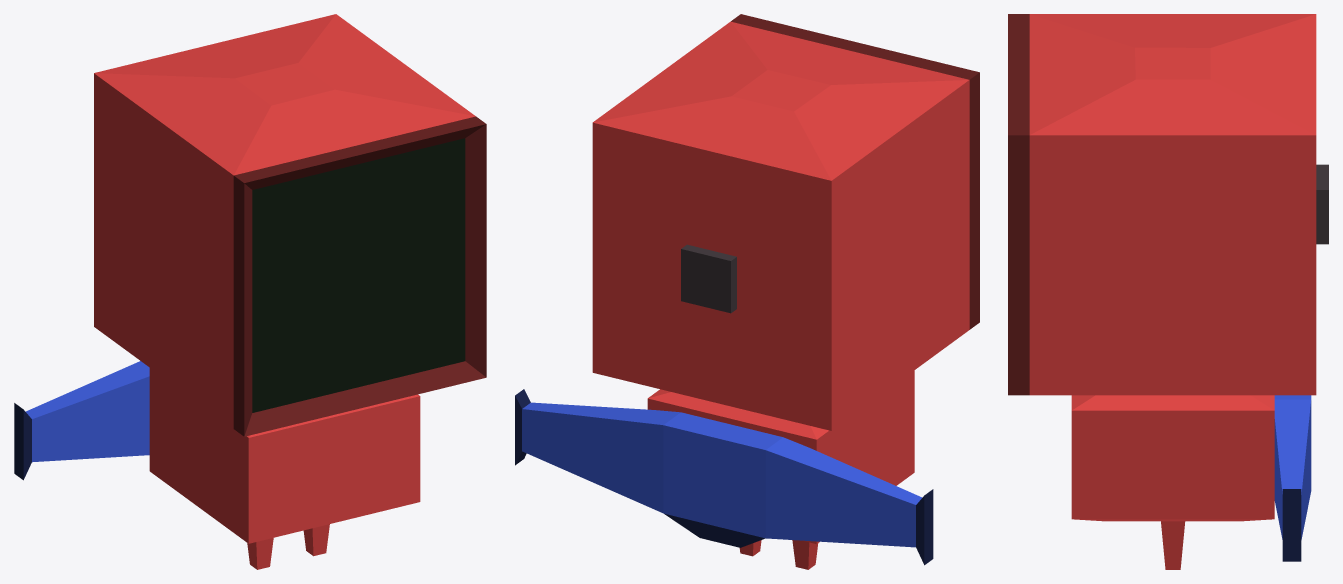
The model's file is roboboy.fbx.
The picture shows the model from 3 angles, left to right: view 1: azimuth 30°, elevation 25°; view 2: azimuth 150°, elevation 25°; view 3: azimuth 270°, elevation 25°; orthographic projection. The views are drawn at different scales.
Visible parts, largest first — view 1: Cube, Cube.005, Cube.006, Cube.003, Cube.007, Cube.001, Cube.002; view 2: Cube, Cube.003, Cube.006, Cube.004, Cube.007, Cube.008, Cube.001; view 3: Cube, Cube.006, Cube.003, Cube.007, Cube.004, Cube.002.
Part boxes in pixels (x1,y1,x2,y2): Cube: (94,14,475,543); Cube.005: (252,138,465,412); Cube.006: (233,116,486,436); Cube.003: (26,361,149,462); Cube.007: (14,403,31,480); Cube.001: (247,538,273,569); Cube.002: (303,524,329,556); Cube: (592,21,969,544); Cube.003: (522,402,922,547); Cube.006: (731,14,979,329); Cube.004: (681,244,736,313); Cube.007: (515,389,933,565); Cube.008: (664,513,765,547); Cube.001: (792,540,818,569); Cube: (1029,14,1316,521); Cube.006: (1008,14,1029,395); Cube.003: (1274,395,1311,539); Cube.007: (1282,489,1301,561); Cube.004: (1316,164,1328,244); Cube.002: (1161,521,1185,569).
Size of the model in its own units: 343 by 375 by 224.
